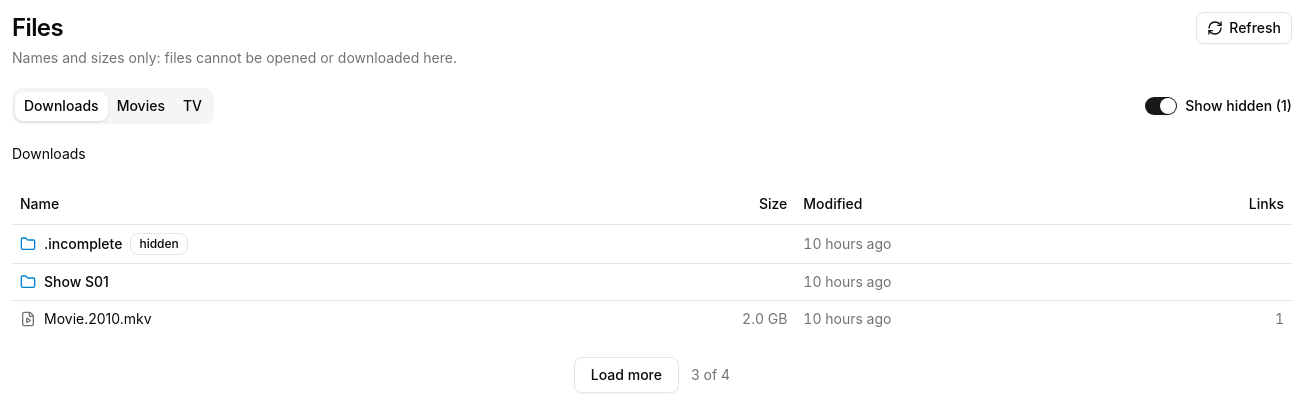
Test case: Files › lists hidden entries, links folders only and loads more
This screenshot has width=1304, height=410.
Expected: the link ".incomplete" is shown, [44,234,122,254]
Expected: the text "2.0 GB" is shown, [600,300,795,336]
Click the button "Load more": (626, 374) [574,356,679,392]
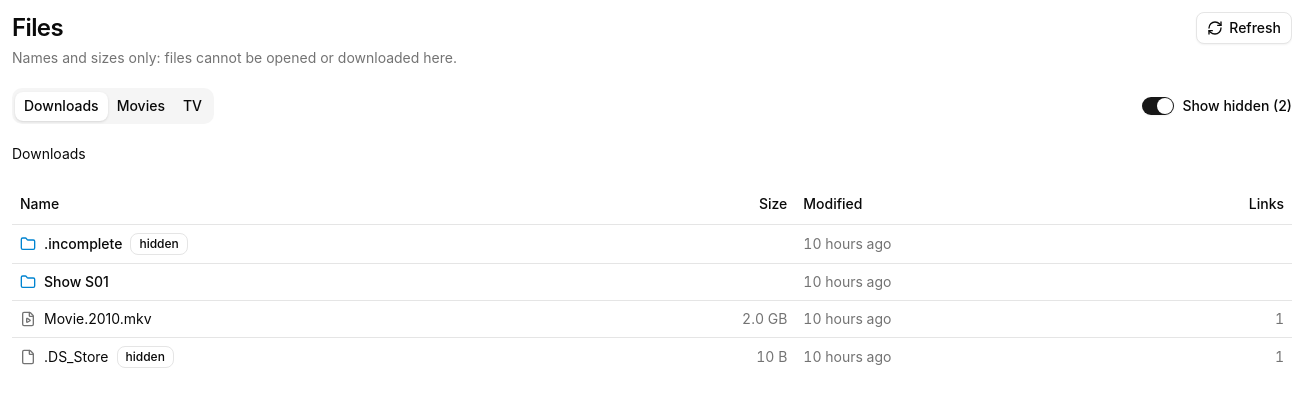
Expected: the text ".DS_Store" is shown, [44,346,108,366]
